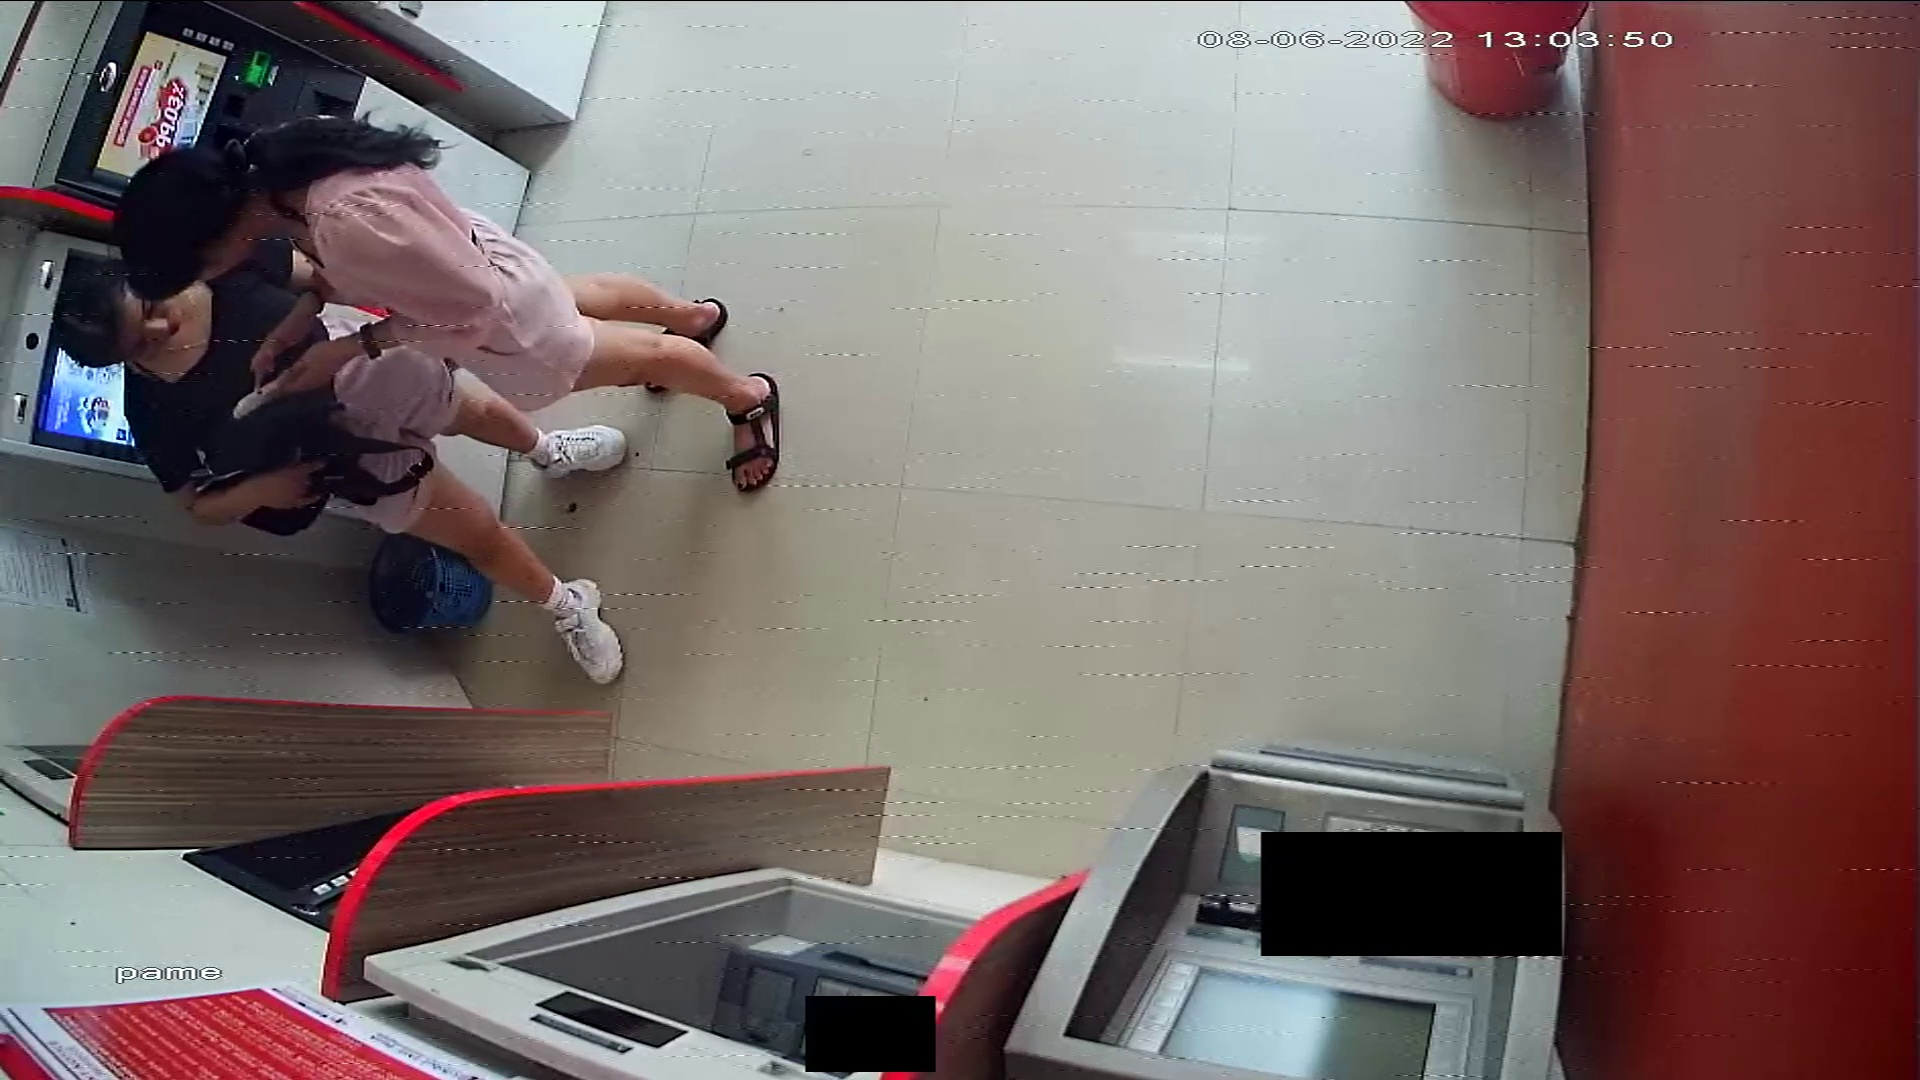person: (121, 115, 797, 493), (61, 253, 637, 683)
phone: (232, 375, 286, 421)
